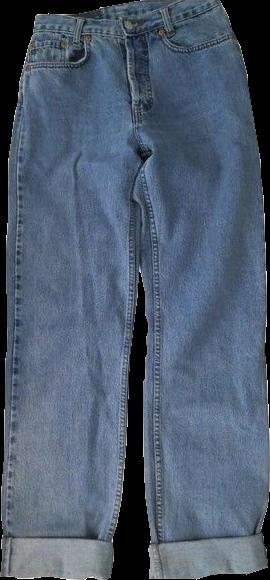Hemline: (148, 560, 268, 579), (0, 571, 109, 579)
Pantleg: (117, 0, 268, 579), (1, 6, 140, 579)
Waistline: (32, 8, 224, 40), (34, 0, 216, 18)
